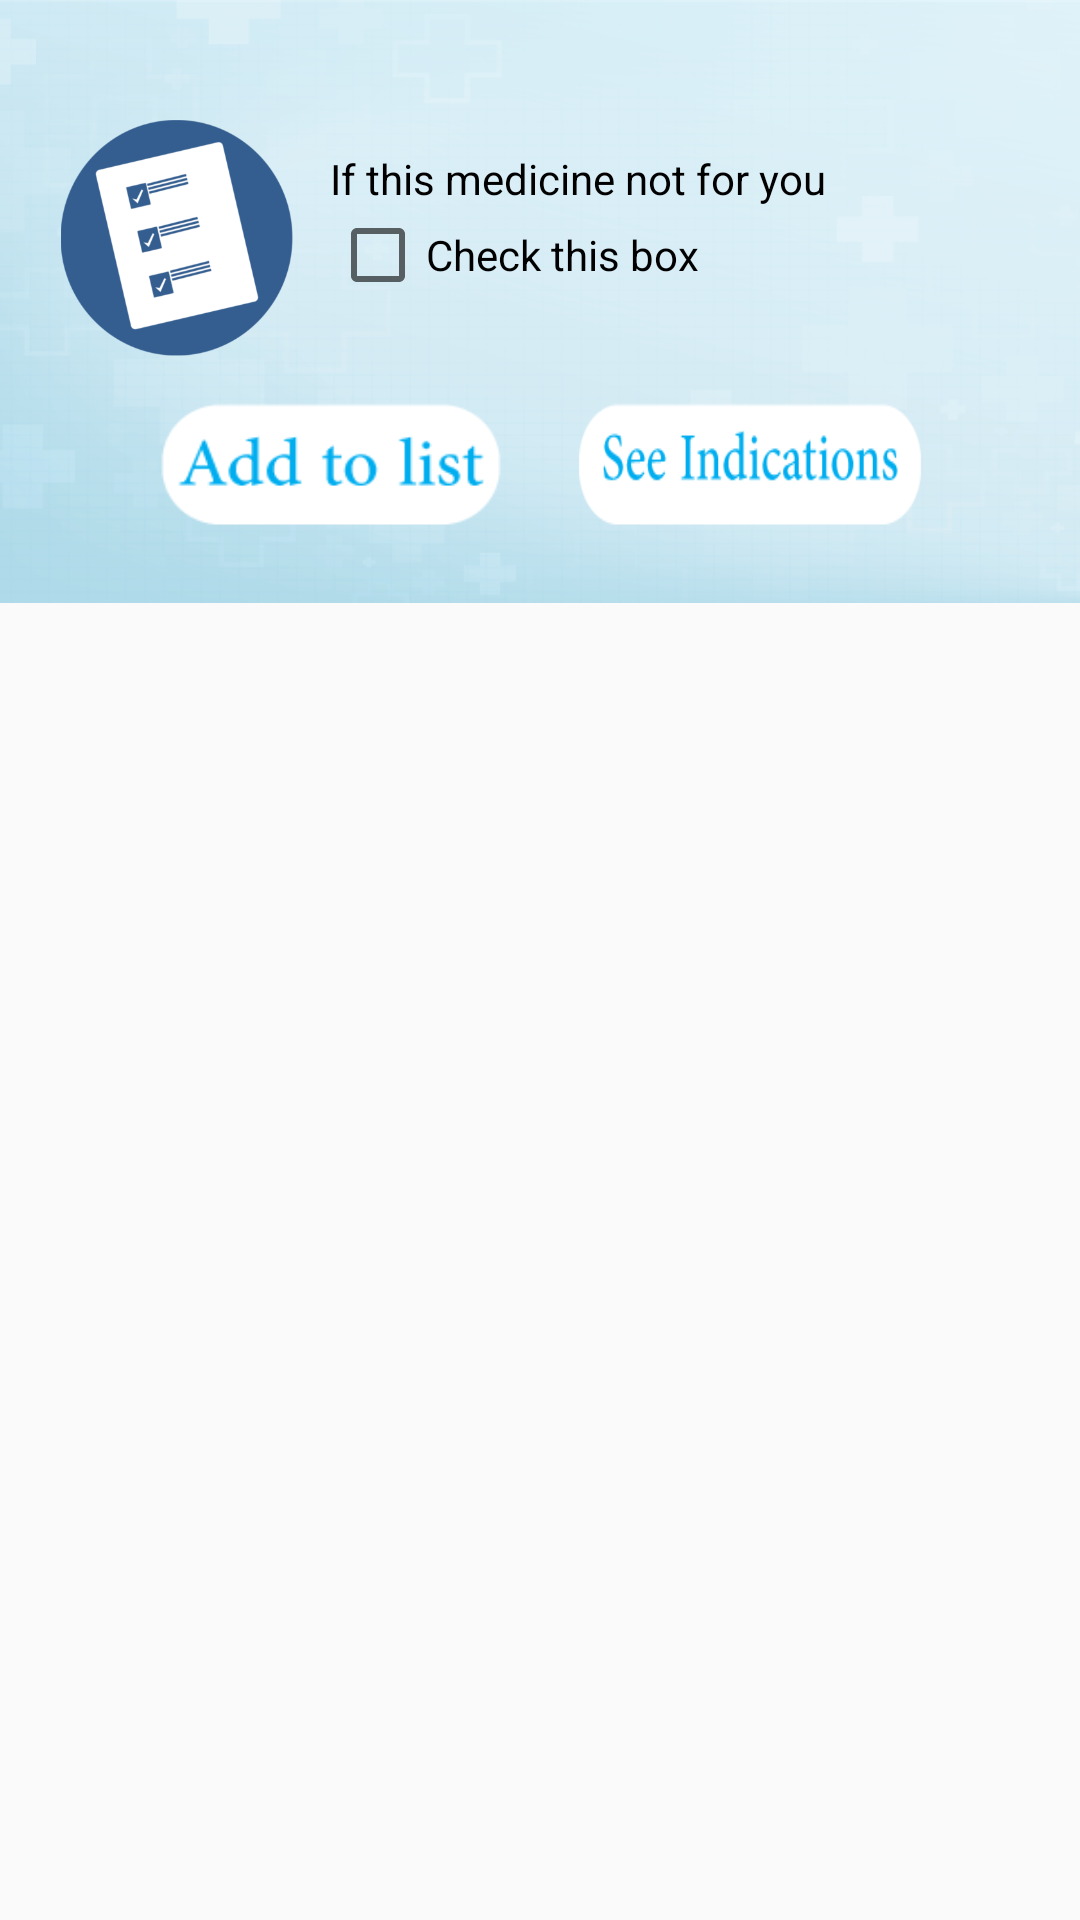

Icons on this 1080×1920 Android screen, each with its box as detection(x1, y1, x2, y2):
order dialog: detection(61, 120, 293, 356)
